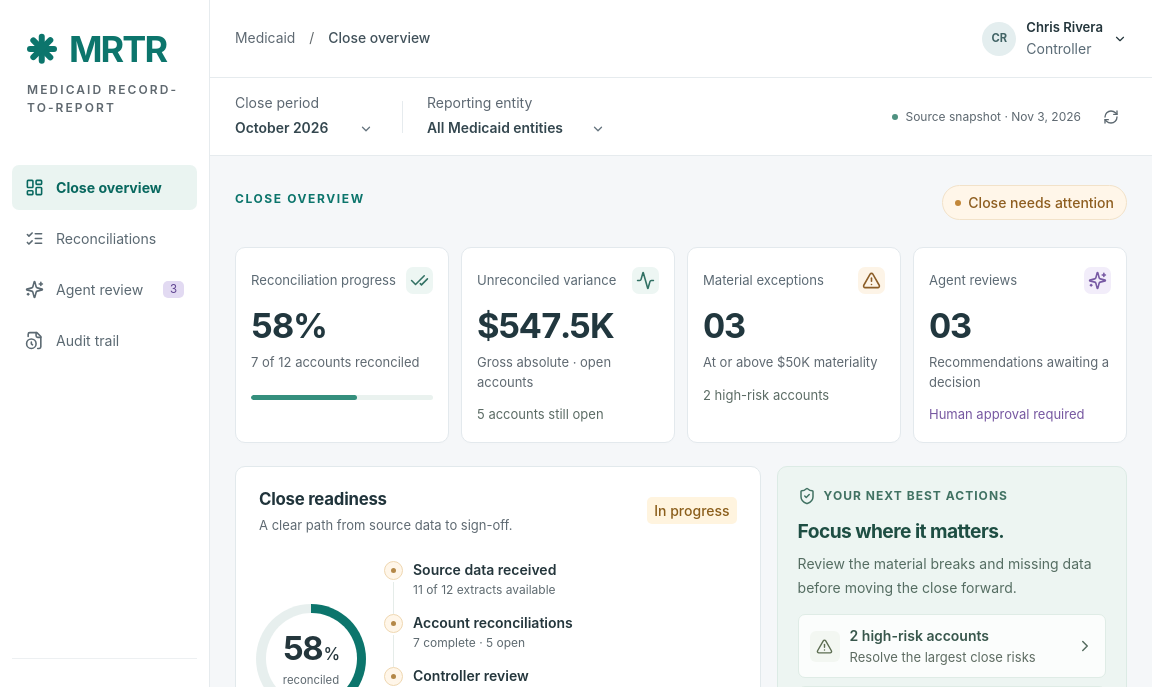
Controller workflow › connects a summary indicator to the appropriate reconciliation filter
Expected: the element named "Close summary" is shown, [235, 247, 1127, 442]
What coordinates should you click on to do the following:
click the button "Material exceptions"
I would click on:
 (794, 345)
Its box is [687, 247, 901, 442].
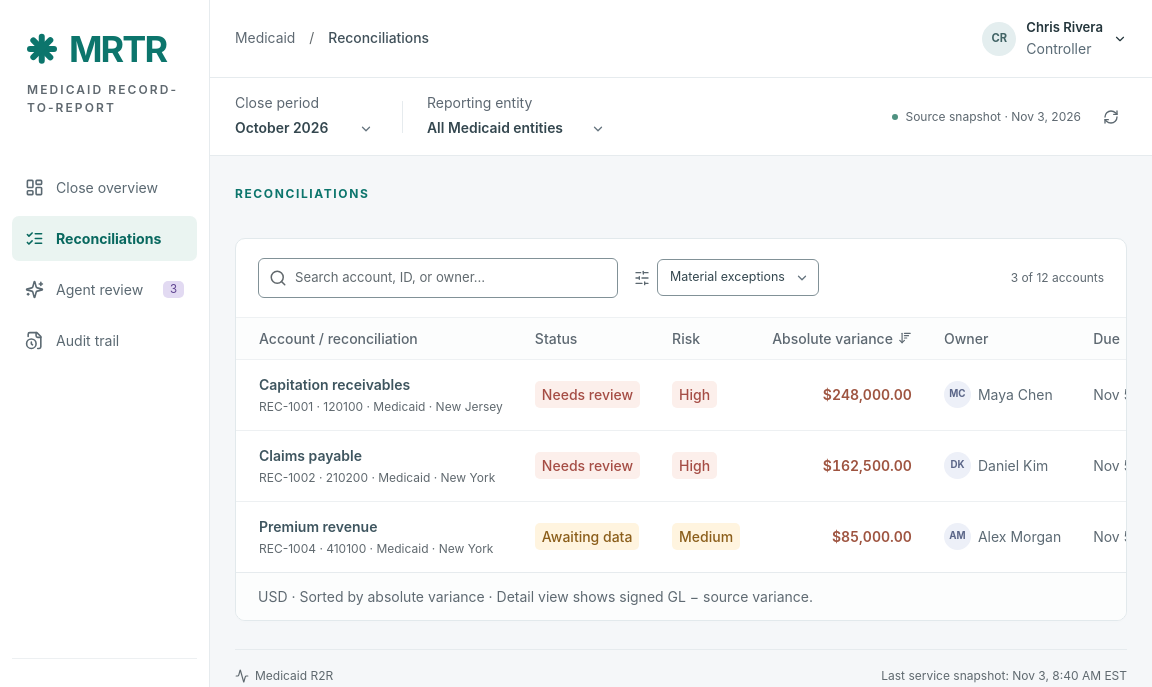
Expected: the button "Capitation receivables" is shown, [259, 374, 410, 395]
Expected: the dropdown named "Reconciliation filter" shows "Material exceptions", [657, 260, 819, 296]
Expected: the message named "Reconciliation result count" reads "3 of 12 accounts", [1011, 269, 1104, 287]
